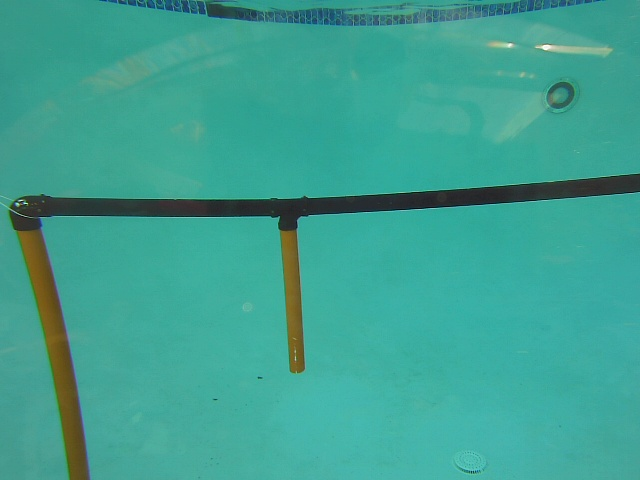Gate: (10, 219, 95, 480), (277, 223, 307, 377)
